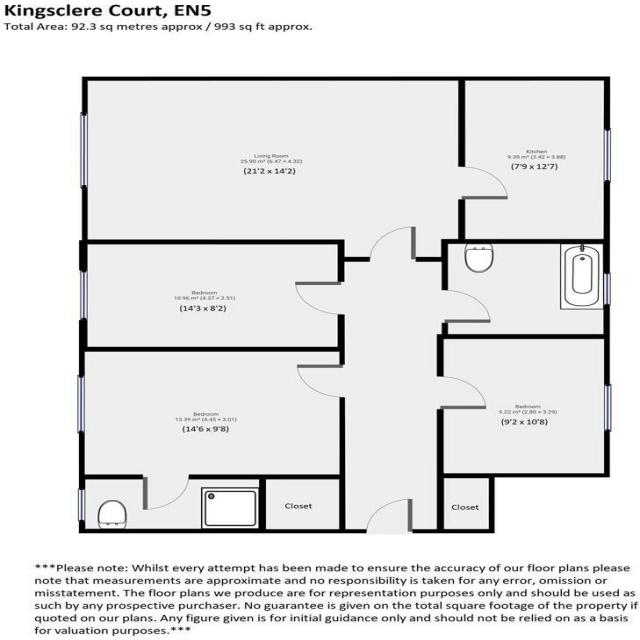DOOR: (367, 224, 419, 262), (436, 374, 489, 411), (293, 280, 346, 316), (139, 474, 190, 511), (364, 497, 415, 534), (458, 165, 510, 201), (294, 363, 346, 399), (441, 288, 492, 324)
ROOM: (78, 76, 510, 262), (78, 346, 346, 511), (78, 239, 346, 352), (458, 76, 611, 244), (436, 334, 611, 478)
WINDOW: (79, 114, 89, 188), (78, 269, 89, 321), (602, 128, 612, 183), (77, 375, 86, 433), (603, 384, 613, 432), (76, 488, 88, 522), (602, 273, 611, 306)
